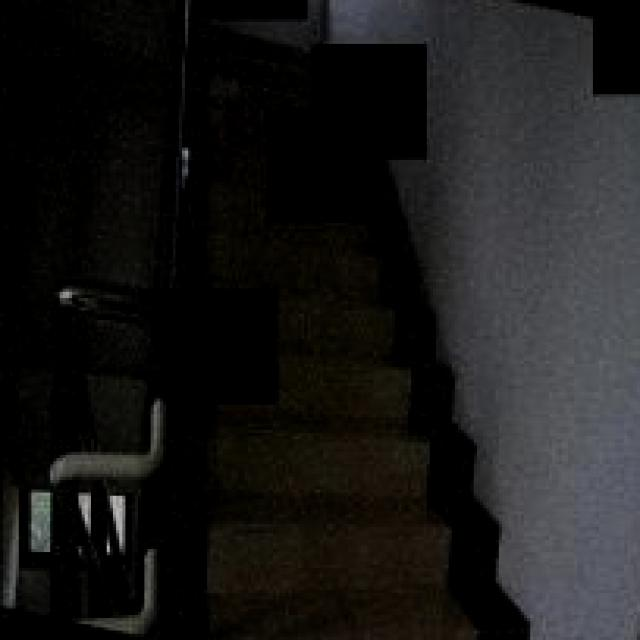upstair: (174, 431, 509, 640)
